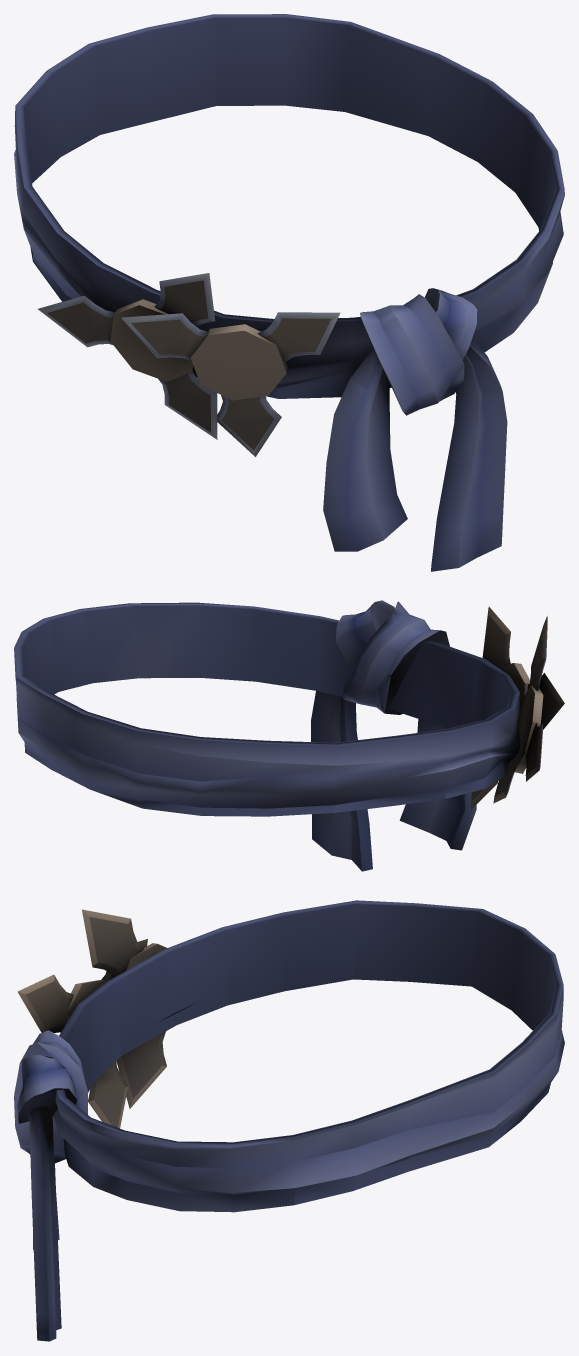
Rendered from Belt_Ninja_Waistband.gltf.
The picture shows the model from 3 angles, top to bottom: view 1: azimuth 30°, elevation 25°; view 2: azimuth 150°, elevation 25°; view 3: azimuth 270°, elevation 25°; orthographic projection. The views are drawn at different scales.
Visible parts, largest first — view 1: Belt_Ninja_Waistband; view 2: Belt_Ninja_Waistband; view 3: Belt_Ninja_Waistband.
Boxes of the visible parts, box(x1,y1,x2,y2) form: Belt_Ninja_Waistband: box(14, 14, 564, 571); Belt_Ninja_Waistband: box(14, 600, 564, 871); Belt_Ninja_Waistband: box(14, 900, 564, 1341).
Size of the model in its own units: 0.8657 by 0.5635 by 0.8382.
2 materials, 2 textured.
